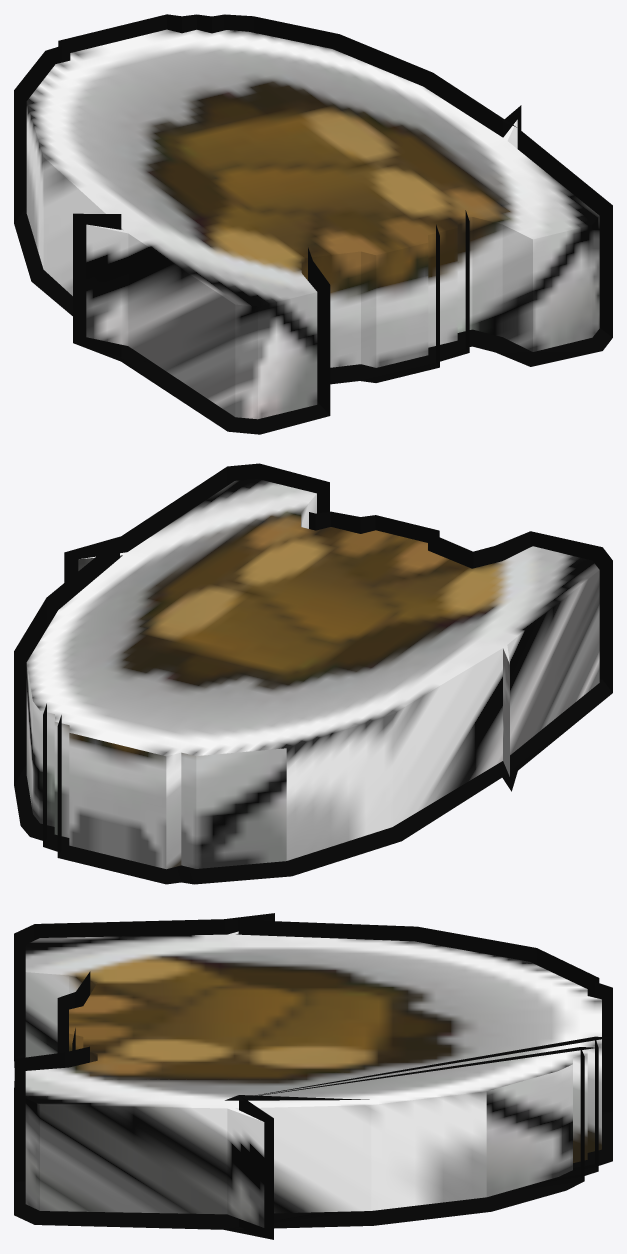
Rendered from Building_Brazier_Things_Building_Misc_Brazier.glb.
The picture shows the model from 3 angles, top to bottom: view 1: azimuth 30°, elevation 25°; view 2: azimuth 150°, elevation 25°; view 3: azimuth 270°, elevation 25°; orthographic projection. The views are drawn at different scales.
Visible parts, largest first — view 1: Body, Outline; view 2: Body, Outline; view 3: Body, Outline.
Boxes of the visible parts, bbox=[...] form: Body: bbox=[26, 29, 599, 419]; Outline: bbox=[14, 14, 612, 434]; Body: bbox=[26, 479, 599, 869]; Outline: bbox=[14, 463, 612, 884]; Body: bbox=[25, 931, 601, 1227]; Outline: bbox=[14, 913, 612, 1239].
Bounding box in the file's own units: 0.9405 × 0.2874 × 1.16.
Materials: 2 (1 with a texture image).
